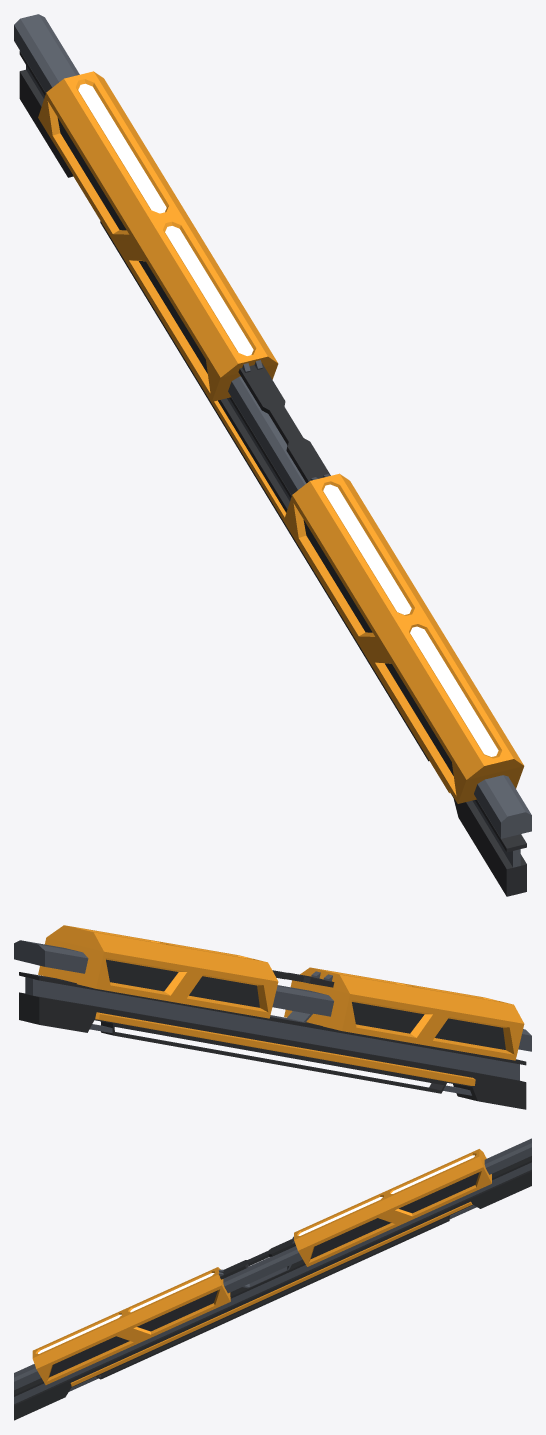
File: SM_Lifting_section_of_the_conveyor.glb
The picture shows the model from 3 angles, top to bottom: view 1: azimuth 30°, elevation 25°; view 2: azimuth 150°, elevation 25°; view 3: azimuth 270°, elevation 25°; orthographic projection. The views are drawn at different scales.
Visible parts, largest first — view 1: SM_Lifting_section_of_the_conveyor; view 2: SM_Lifting_section_of_the_conveyor; view 3: SM_Lifting_section_of_the_conveyor.
Boxes of the visible parts, x1,y1,x2,y2 form: SM_Lifting_section_of_the_conveyor: [14, 14, 531, 896]; SM_Lifting_section_of_the_conveyor: [14, 925, 531, 1109]; SM_Lifting_section_of_the_conveyor: [14, 1138, 531, 1420].
Size of the model in its own units: 0.1371 by 1.18 by 2.
2 materials, 1 textured.
